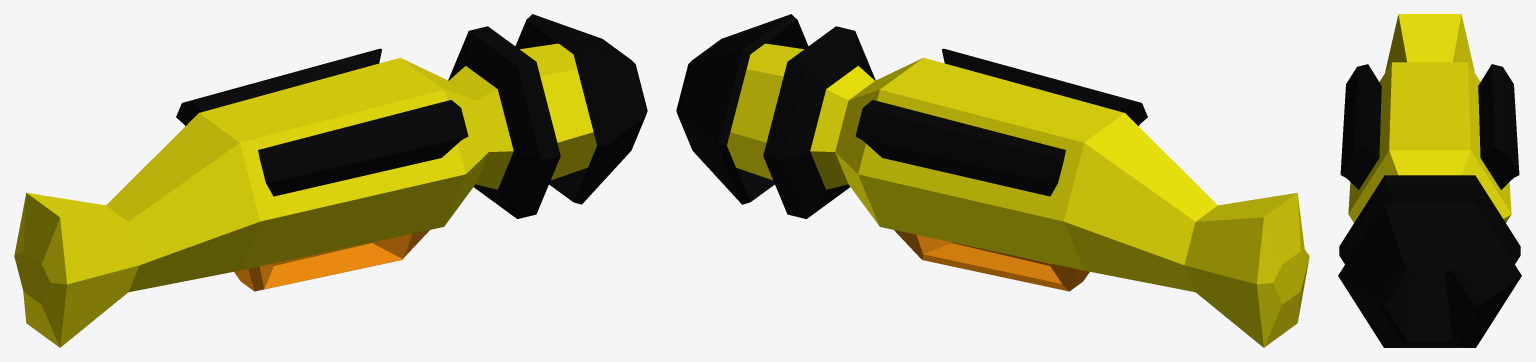
File: GravityGun.fbx
The picture shows the model from 3 angles, left to right: view 1: azimuth 30°, elevation 25°; view 2: azimuth 150°, elevation 25°; view 3: azimuth 270°, elevation 25°; orthographic projection. The views are drawn at different scales.
Parts seen in each view (by area): view 1: Cylinder; view 2: Cylinder; view 3: Cylinder.
Part boxes in pixels (x1=…): Cylinder: x1=14, y1=14, x2=647, y2=347; Cylinder: x1=676, y1=14, x2=1309, y2=347; Cylinder: x1=1338, y1=14, x2=1521, y2=347.
Bounding box in the file's own units: 838 × 247 × 242.
